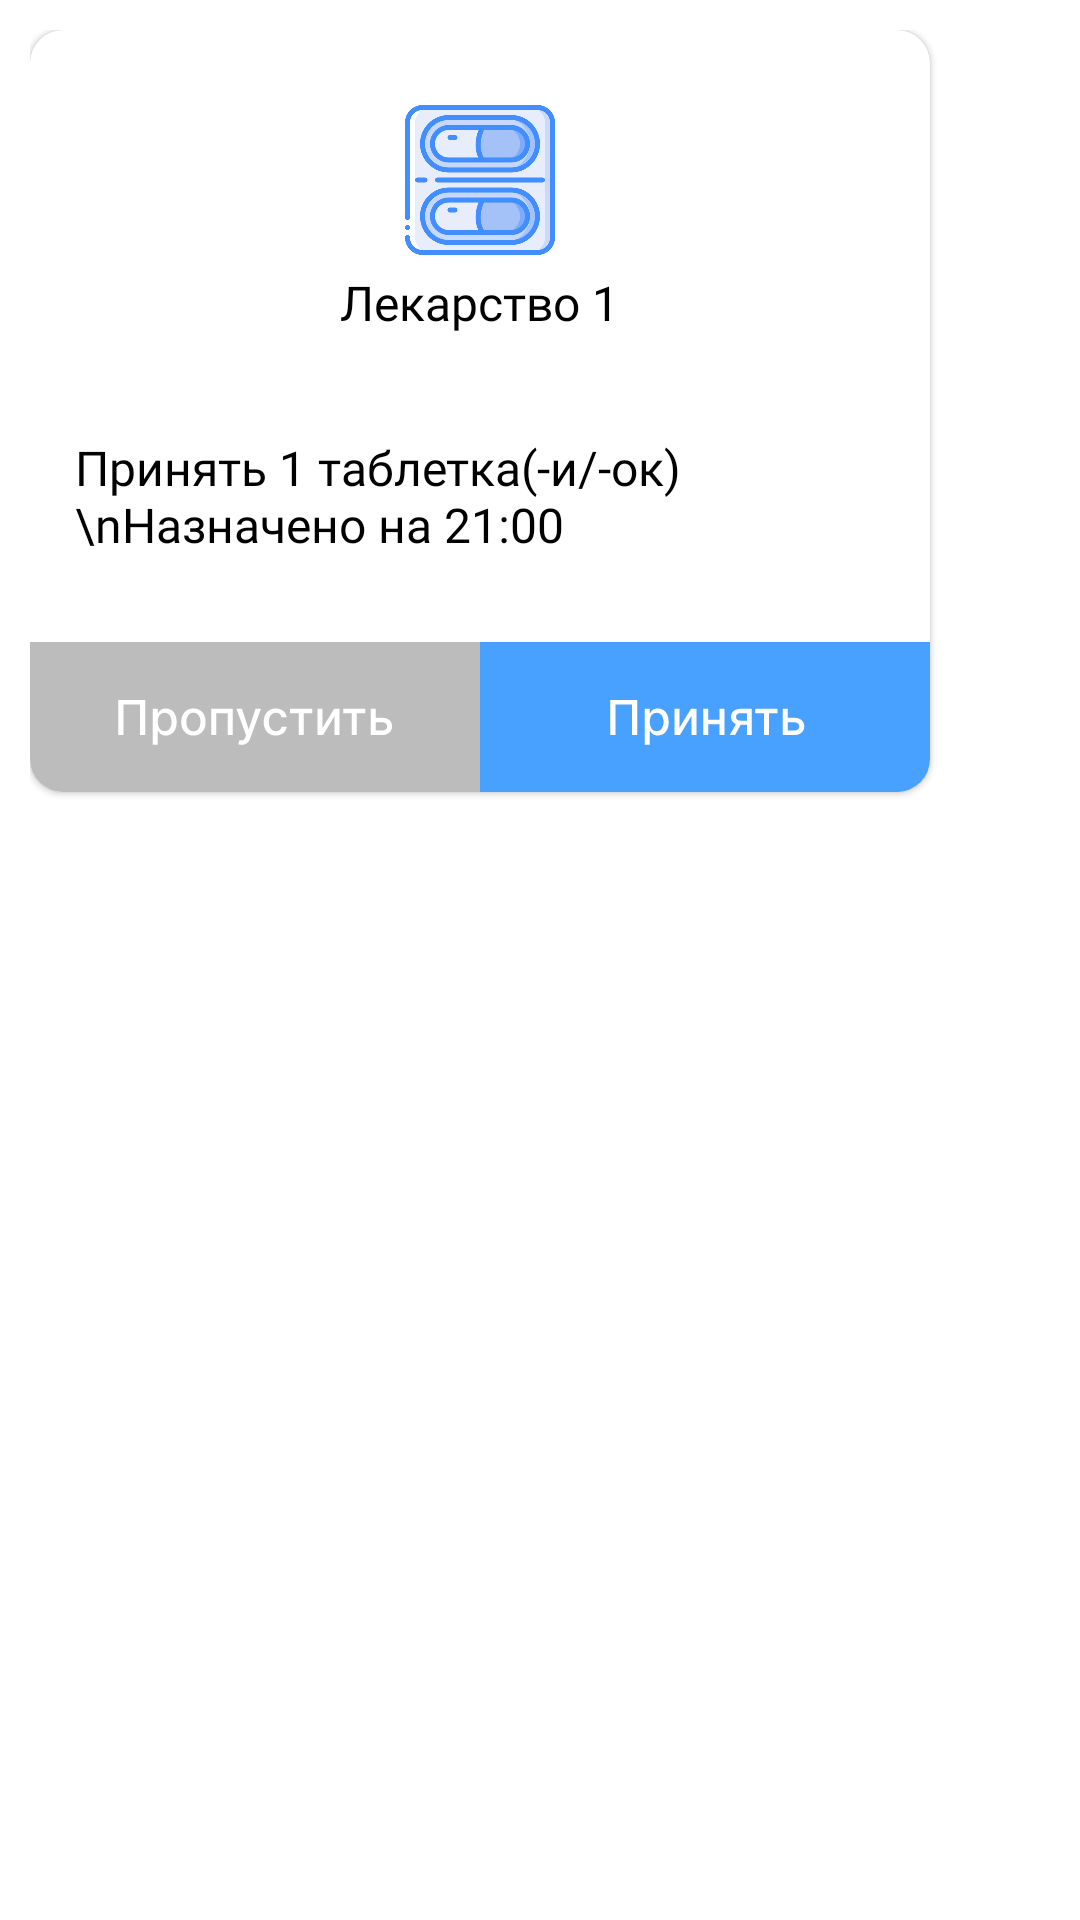

Where icons sit on this 1080px x 1920px app screen, as (x1, y1, x2, y2):
pill: (405, 105, 555, 255)
